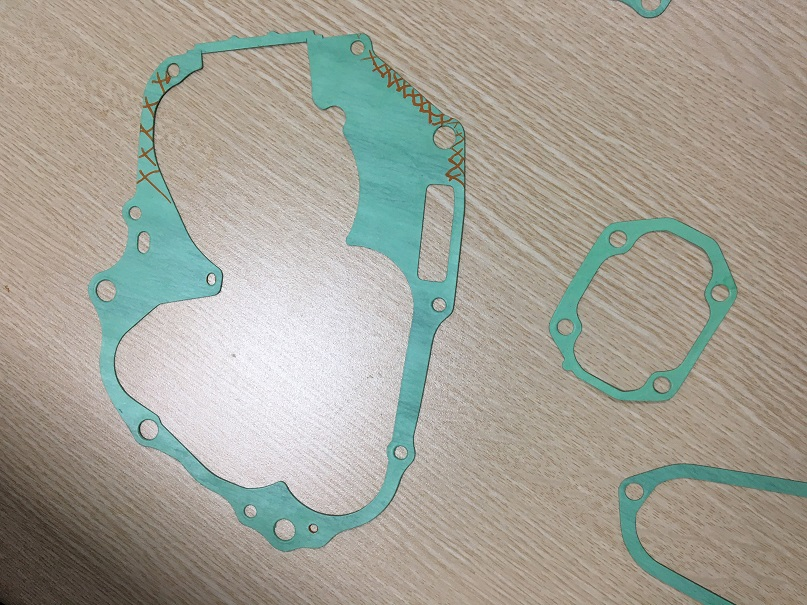type2: (541, 212, 742, 408)
type3: (64, 29, 479, 560)
